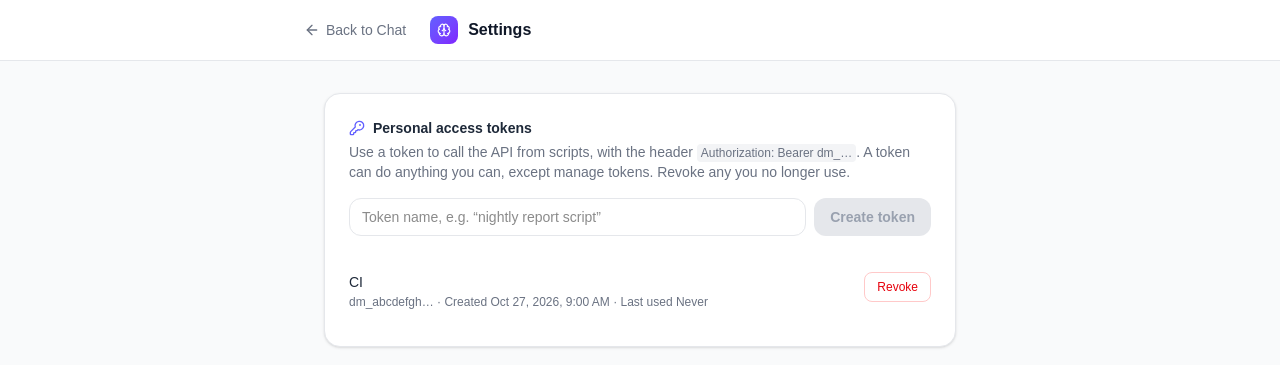
Test: settings: personal access tokens › revokes only after confirming, then reloads
This screenshot has width=1280, height=365.
Click the button with aria-label "Revoke CI": x=898, y=287 [864,272,931,302]
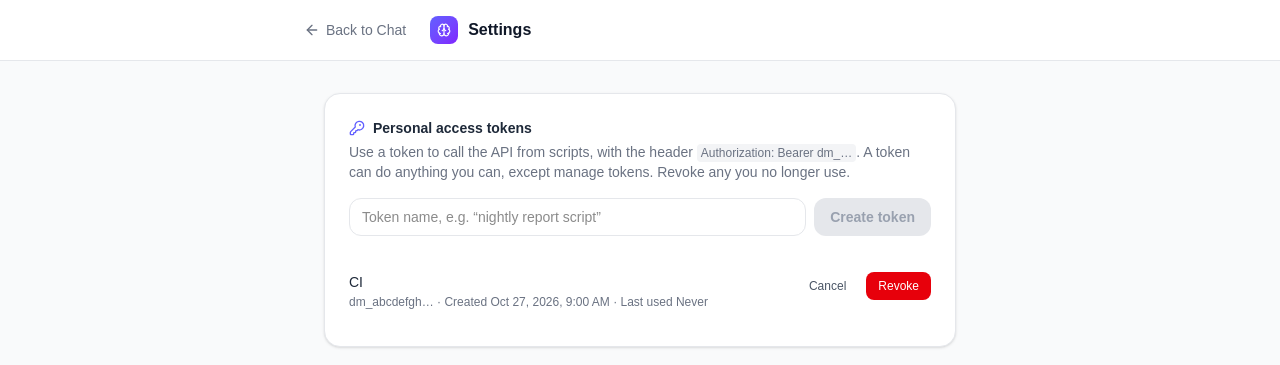
Click the button "Cancel": x=828, y=286 [797,272,858,300]
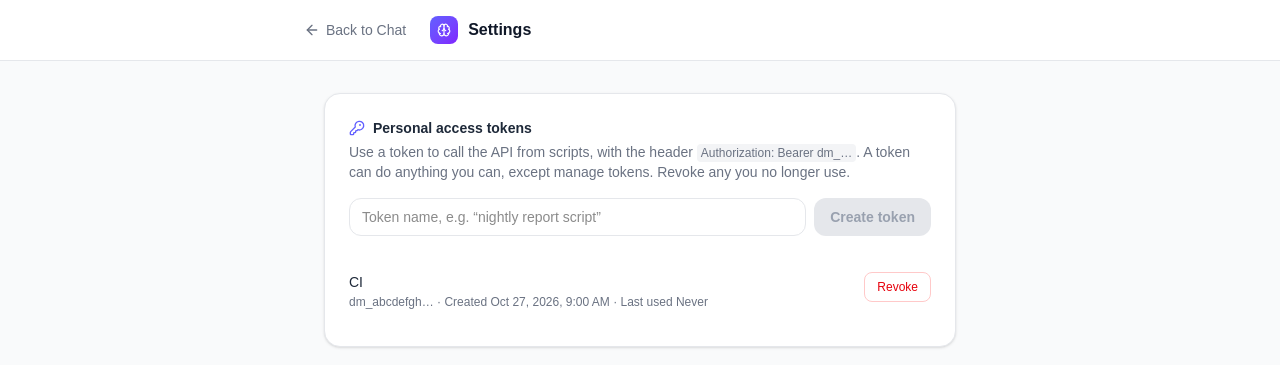
Click the button with aria-label "Revoke CI": x=898, y=287 [864,272,931,302]
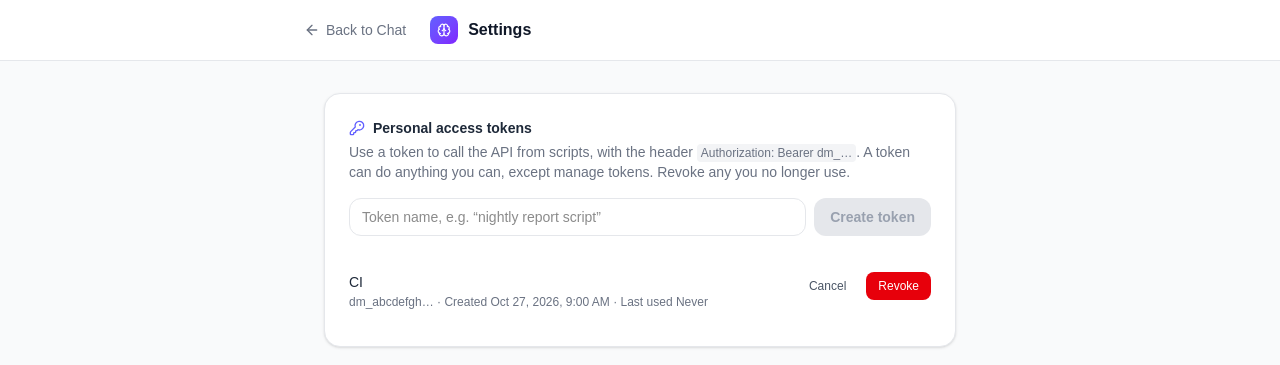
Click the button with aria-label "Confirm revoking CI": x=899, y=286 [866,272,931,300]
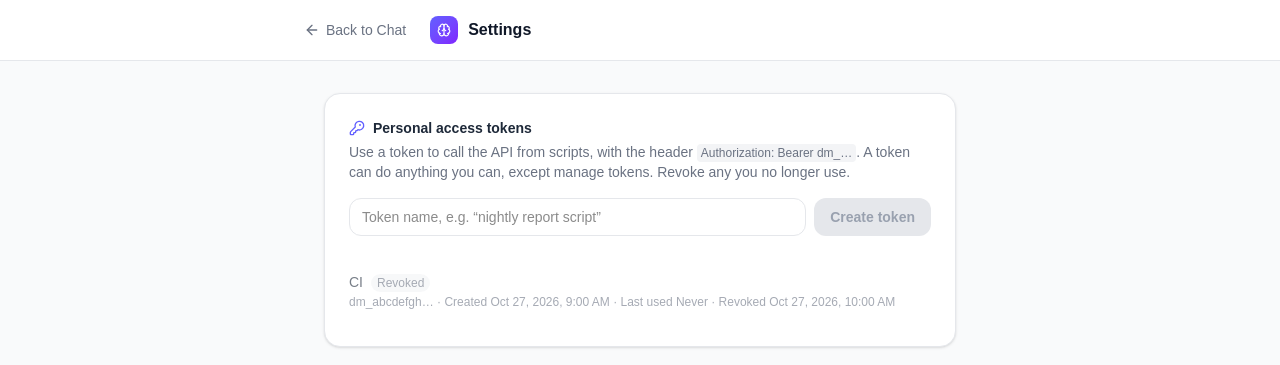
expect the text "Revoked" is shown: met, box [371,274,430,292]
